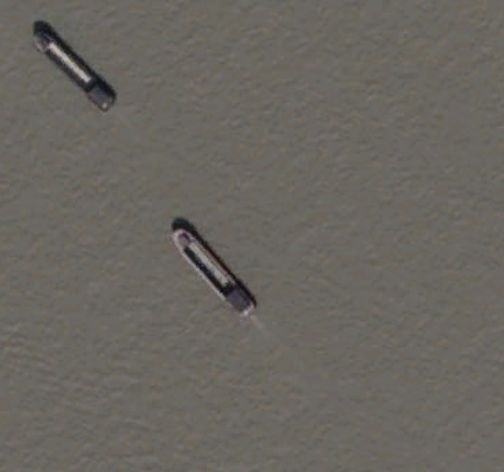boat: (169, 221, 257, 317), (32, 22, 117, 112)
